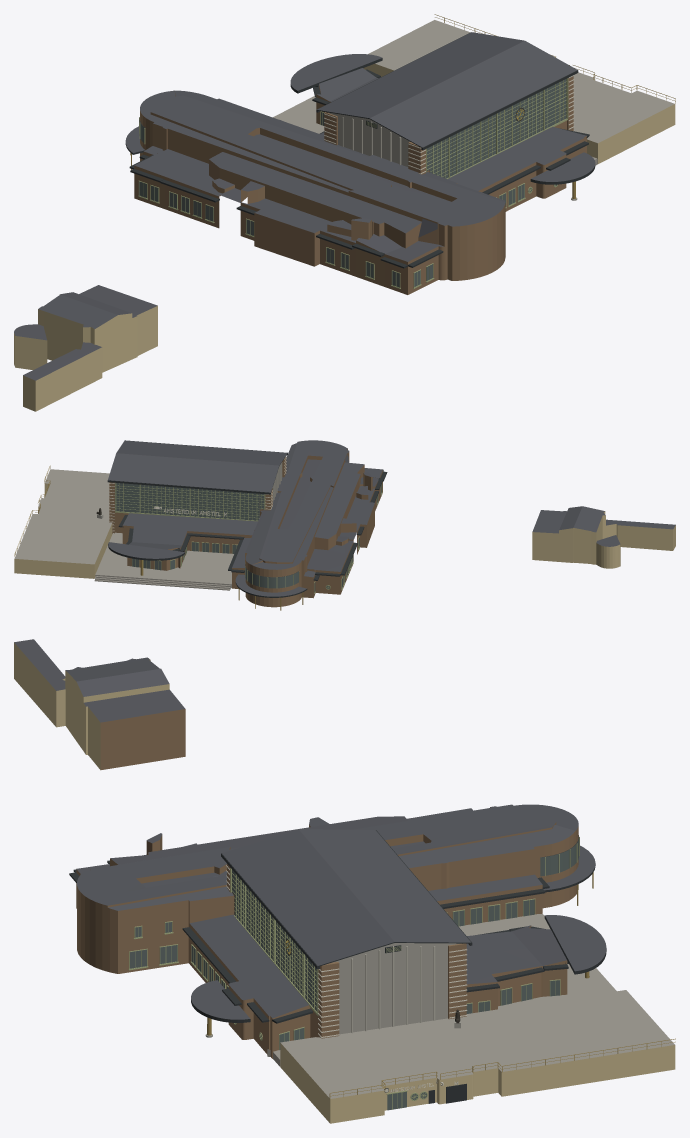
Rendered from amstelstation.glb.
The picture shows the model from 3 angles, top to bottom: view 1: azimuth 30°, elevation 25°; view 2: azimuth 150°, elevation 25°; view 3: azimuth 270°, elevation 25°; orthographic projection. The views are drawn at different scales.
Visible parts, largest first — view 1: amstelstation; view 2: amstelstation; view 3: amstelstation.
Part boxes in pixels (x1,y1,x2,y2): amstelstation: (14, 14, 675, 411); amstelstation: (14, 440, 675, 610); amstelstation: (14, 639, 675, 1123).
Bounding box in the file's own units: 163 × 18.86 × 102.
